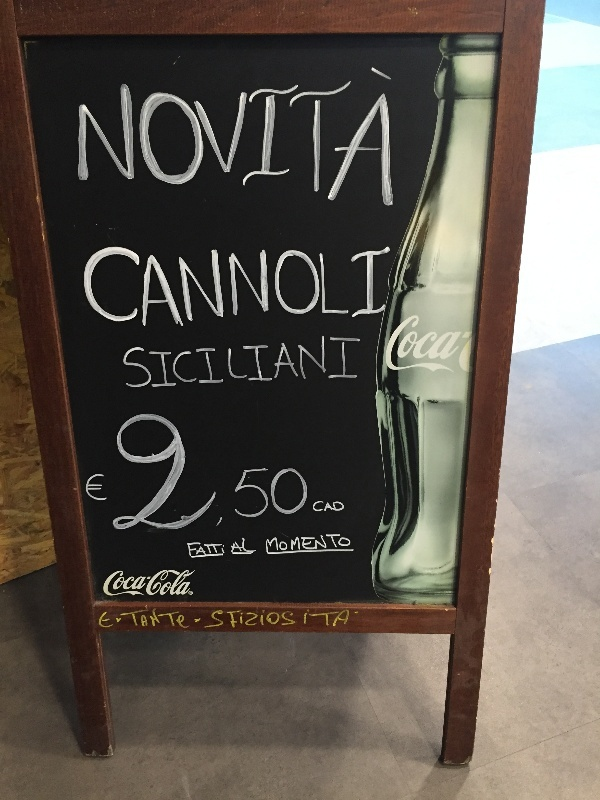text: (81, 63, 96, 210), (97, 63, 112, 210), (113, 63, 128, 210), (129, 63, 144, 210), (145, 63, 160, 210), (161, 63, 176, 210), (177, 63, 192, 210), (193, 63, 208, 210), (209, 63, 224, 210), (225, 63, 240, 210), (241, 63, 256, 210), (257, 63, 272, 210), (273, 63, 288, 210), (289, 63, 304, 210), (305, 63, 320, 210), (321, 63, 336, 210), (337, 63, 352, 210), (353, 63, 368, 210), (369, 63, 384, 210), (385, 63, 400, 210), (129, 408, 144, 539), (145, 408, 160, 539), (161, 408, 176, 539), (177, 408, 192, 539), (193, 408, 208, 539), (209, 408, 224, 539), (225, 408, 240, 539), (241, 408, 256, 539), (257, 408, 272, 539), (273, 408, 288, 539), (289, 408, 304, 539), (118, 408, 128, 539), (97, 244, 112, 330), (113, 244, 128, 330), (129, 244, 144, 330), (145, 244, 160, 330), (161, 244, 176, 330), (177, 244, 192, 330), (193, 244, 208, 330), (209, 244, 224, 330), (225, 244, 240, 330), (241, 244, 256, 330), (257, 244, 272, 330), (273, 244, 288, 330), (289, 244, 304, 330), (305, 244, 320, 330), (321, 244, 336, 330), (337, 244, 352, 330), (353, 244, 368, 330), (369, 244, 384, 330), (417, 310, 432, 381), (433, 310, 448, 381), (449, 310, 464, 381), (129, 331, 144, 395), (145, 331, 160, 395), (161, 331, 176, 395), (177, 331, 192, 395), (193, 331, 208, 395), (209, 331, 224, 395), (225, 331, 240, 395), (241, 331, 256, 395), (257, 331, 272, 395), (273, 331, 288, 395), (289, 331, 304, 395), (305, 331, 320, 395), (321, 331, 336, 395), (337, 331, 352, 395), (403, 310, 416, 381), (305, 408, 312, 539), (87, 244, 96, 330), (385, 244, 393, 330), (353, 331, 362, 395), (97, 472, 110, 508), (113, 569, 128, 598), (129, 569, 144, 598), (161, 569, 176, 597), (177, 569, 192, 597), (86, 472, 96, 508), (273, 531, 288, 555), (289, 531, 304, 555), (305, 531, 320, 555), (321, 531, 336, 555), (337, 531, 352, 555), (129, 610, 144, 630), (145, 610, 160, 630), (161, 610, 176, 630), (225, 609, 240, 629), (241, 609, 256, 629), (257, 609, 272, 629), (273, 609, 288, 629), (401, 63, 403, 210), (177, 610, 191, 630), (305, 609, 320, 627), (321, 609, 336, 627), (124, 331, 128, 395), (193, 541, 208, 558), (209, 541, 224, 558), (241, 536, 256, 553), (337, 609, 351, 627), (145, 569, 153, 598), (101, 610, 112, 630), (214, 609, 224, 629), (321, 501, 336, 513), (119, 610, 128, 630), (154, 569, 160, 597), (289, 609, 297, 629), (79, 63, 80, 210), (266, 531, 272, 555), (232, 536, 240, 553), (193, 569, 197, 597), (337, 501, 345, 513), (187, 541, 192, 558), (314, 501, 320, 513), (110, 569, 112, 598), (113, 610, 114, 630), (225, 541, 226, 558), (257, 536, 258, 553), (190, 592, 192, 595)
